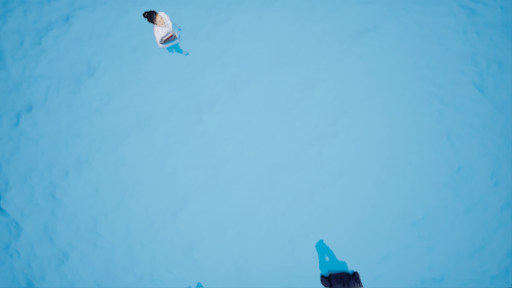person: (132, 3, 195, 57), (312, 232, 367, 288)
